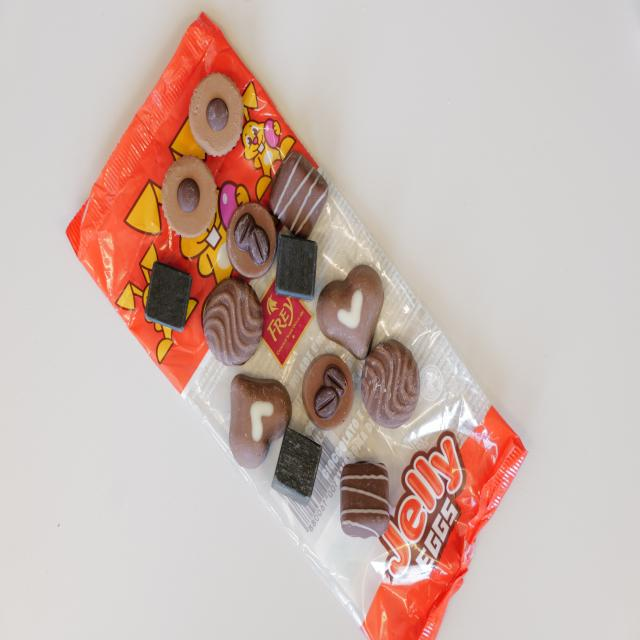Arabia: (227, 202, 277, 278), (303, 354, 354, 428)
Noblesse: (188, 72, 243, 158), (162, 156, 218, 237)
Noir_authentique: (203, 276, 264, 366), (362, 341, 419, 427)
Passion_au_lait: (225, 374, 294, 471), (316, 266, 385, 359)
Stracciatella: (270, 150, 328, 238), (340, 458, 390, 537)
